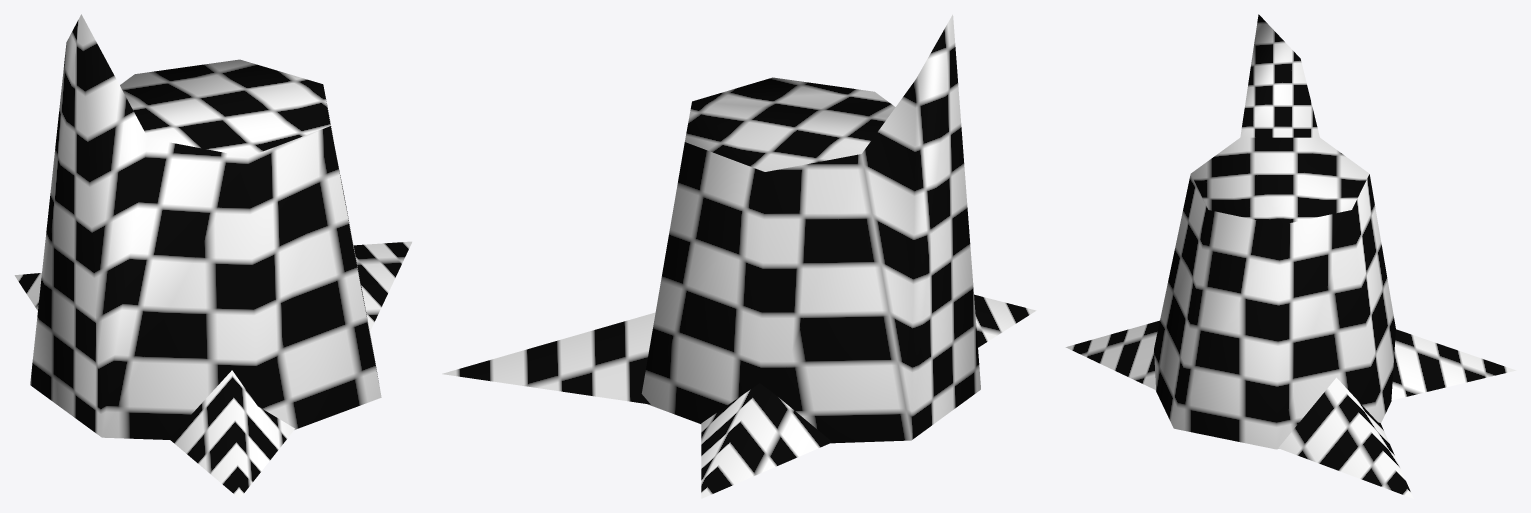
File: nafltr84.dae
The picture shows the model from 3 angles, left to right: view 1: azimuth 30°, elevation 25°; view 2: azimuth 150°, elevation 25°; view 3: azimuth 270°, elevation 25°; orthographic projection. The views are drawn at different scales.
Parts seen in each view (by area): view 1: empty; view 2: empty; view 3: empty.
Part boxes in pixels (<box>): empty: <box>14,14,411,498</box>; empty: <box>442,14,1036,498</box>; empty: <box>1065,14,1516,498</box>.
Bounding box in the file's own units: 1.84 × 2.1 × 1.64.
1 material, 1 textured.
